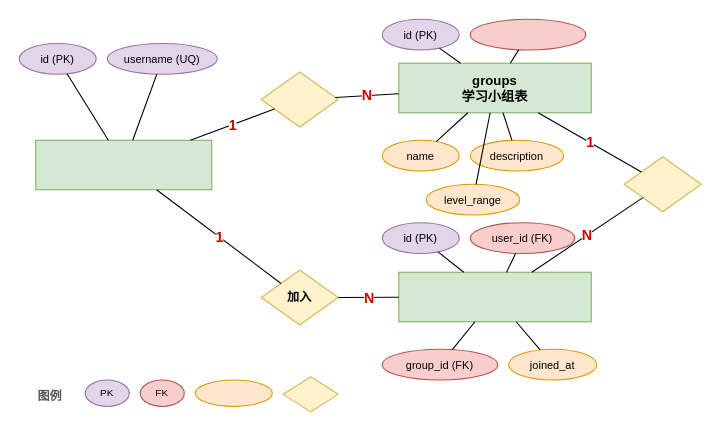
Some shapes in this 721 by 431 pixel diagram are drawn without their labels. The centre of each missing label's shape, as x and y in pixels:
creator_id (FK): the point at 527,34
group_members 小组成员表: the point at 494,296
user_profiles 用户画像表: the point at 123,164
关系: the point at 310,394
创建: the point at 299,99
包含: the point at 662,184
普通属性: the point at 233,392
